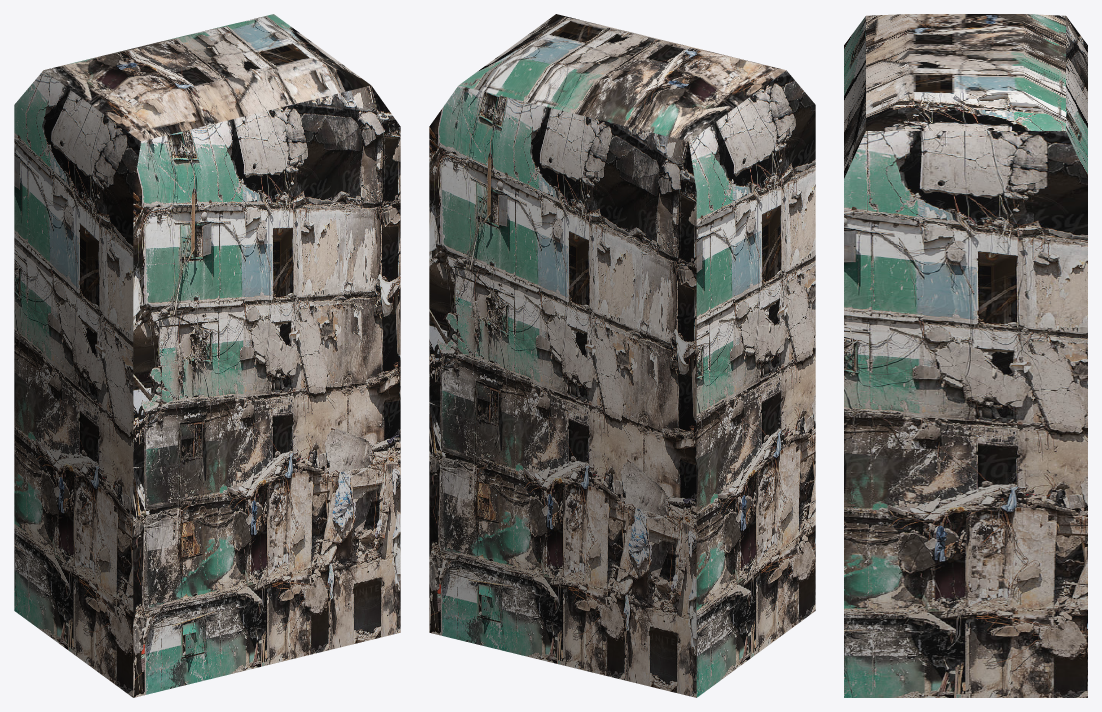
The model's file is Build2.fbx.
3 views of the same model, side by side, from view 1: azimuth 30°, elevation 25°; view 2: azimuth 150°, elevation 25°; view 3: azimuth 270°, elevation 25° (orthographic). The views are drawn at different scales.
Visible parts, largest first — view 1: Box001; view 2: Box001; view 3: Box001.
Boxes of the visible parts, x1,y1,x2,y2 form: Box001: (14, 14, 400, 697); Box001: (429, 14, 815, 697); Box001: (844, 14, 1087, 697).
Bounding box in the file's own units: 28.2 × 56.8 × 21.74.
Materials: 1 (1 with a texture image).
